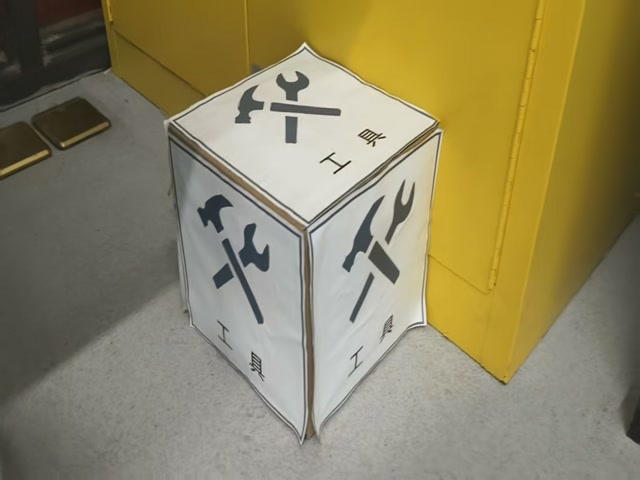Cube_tool: (163, 41, 443, 237)
